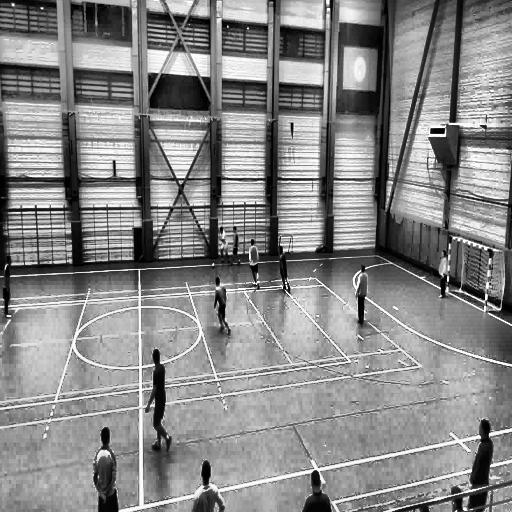ball: (212, 262, 216, 268)
player: (94, 426, 128, 512), (146, 348, 172, 446), (468, 422, 493, 512), (190, 460, 223, 512), (352, 263, 370, 324), (213, 276, 230, 335), (2, 255, 13, 316), (248, 240, 260, 286), (279, 244, 290, 291), (438, 249, 448, 298), (218, 226, 229, 264)
